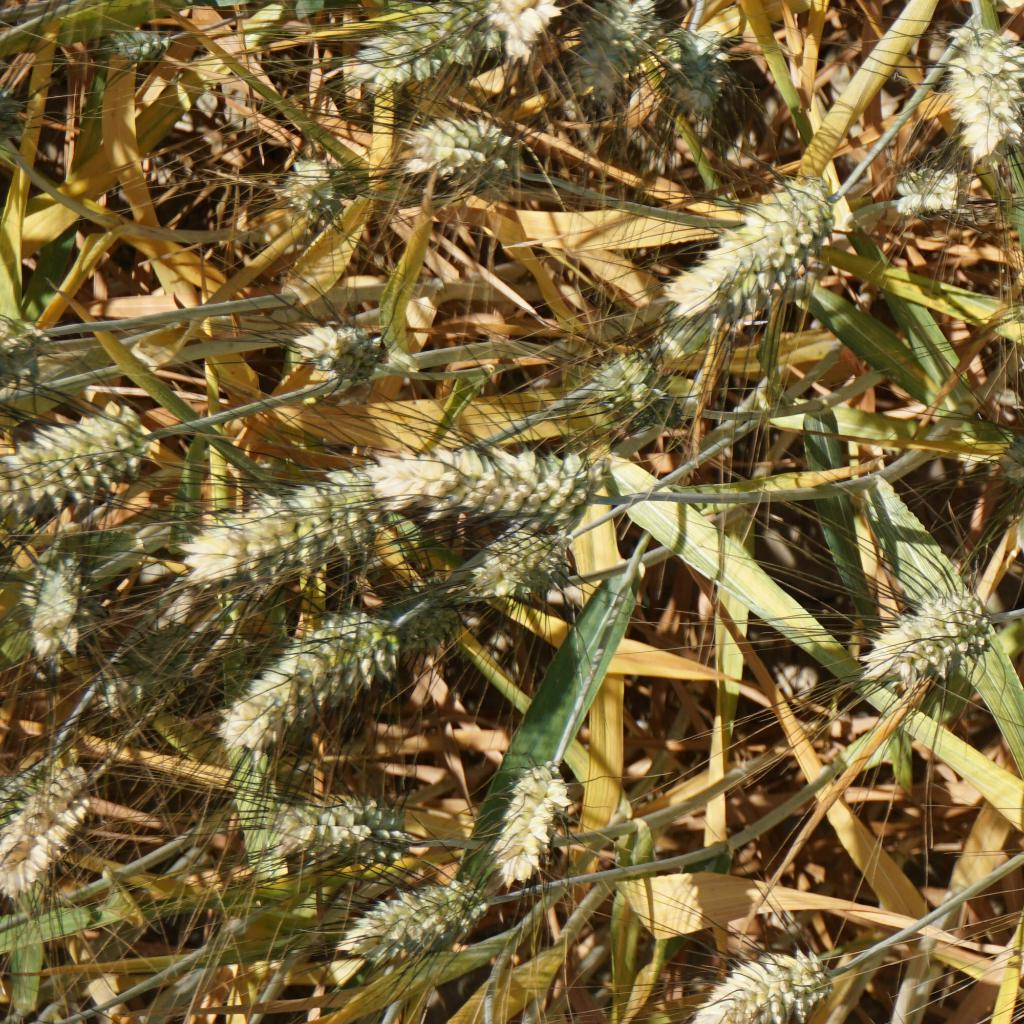0-0: (218, 613, 388, 736), (687, 174, 823, 318), (201, 478, 375, 570), (354, 443, 581, 506), (0, 767, 118, 879), (858, 585, 998, 675), (0, 419, 166, 493), (345, 873, 485, 957), (684, 950, 835, 1024), (257, 780, 396, 854), (355, 0, 482, 79), (568, 0, 649, 118), (956, 16, 1024, 153), (456, 515, 583, 583), (501, 766, 574, 883), (401, 116, 512, 189), (18, 552, 101, 644), (656, 19, 727, 118), (286, 314, 392, 378), (374, 563, 461, 637), (108, 626, 195, 698), (888, 158, 963, 223), (609, 363, 686, 425), (281, 161, 339, 232), (486, 0, 559, 53), (111, 20, 180, 73), (995, 415, 1024, 503), (1006, 12, 1024, 88)
